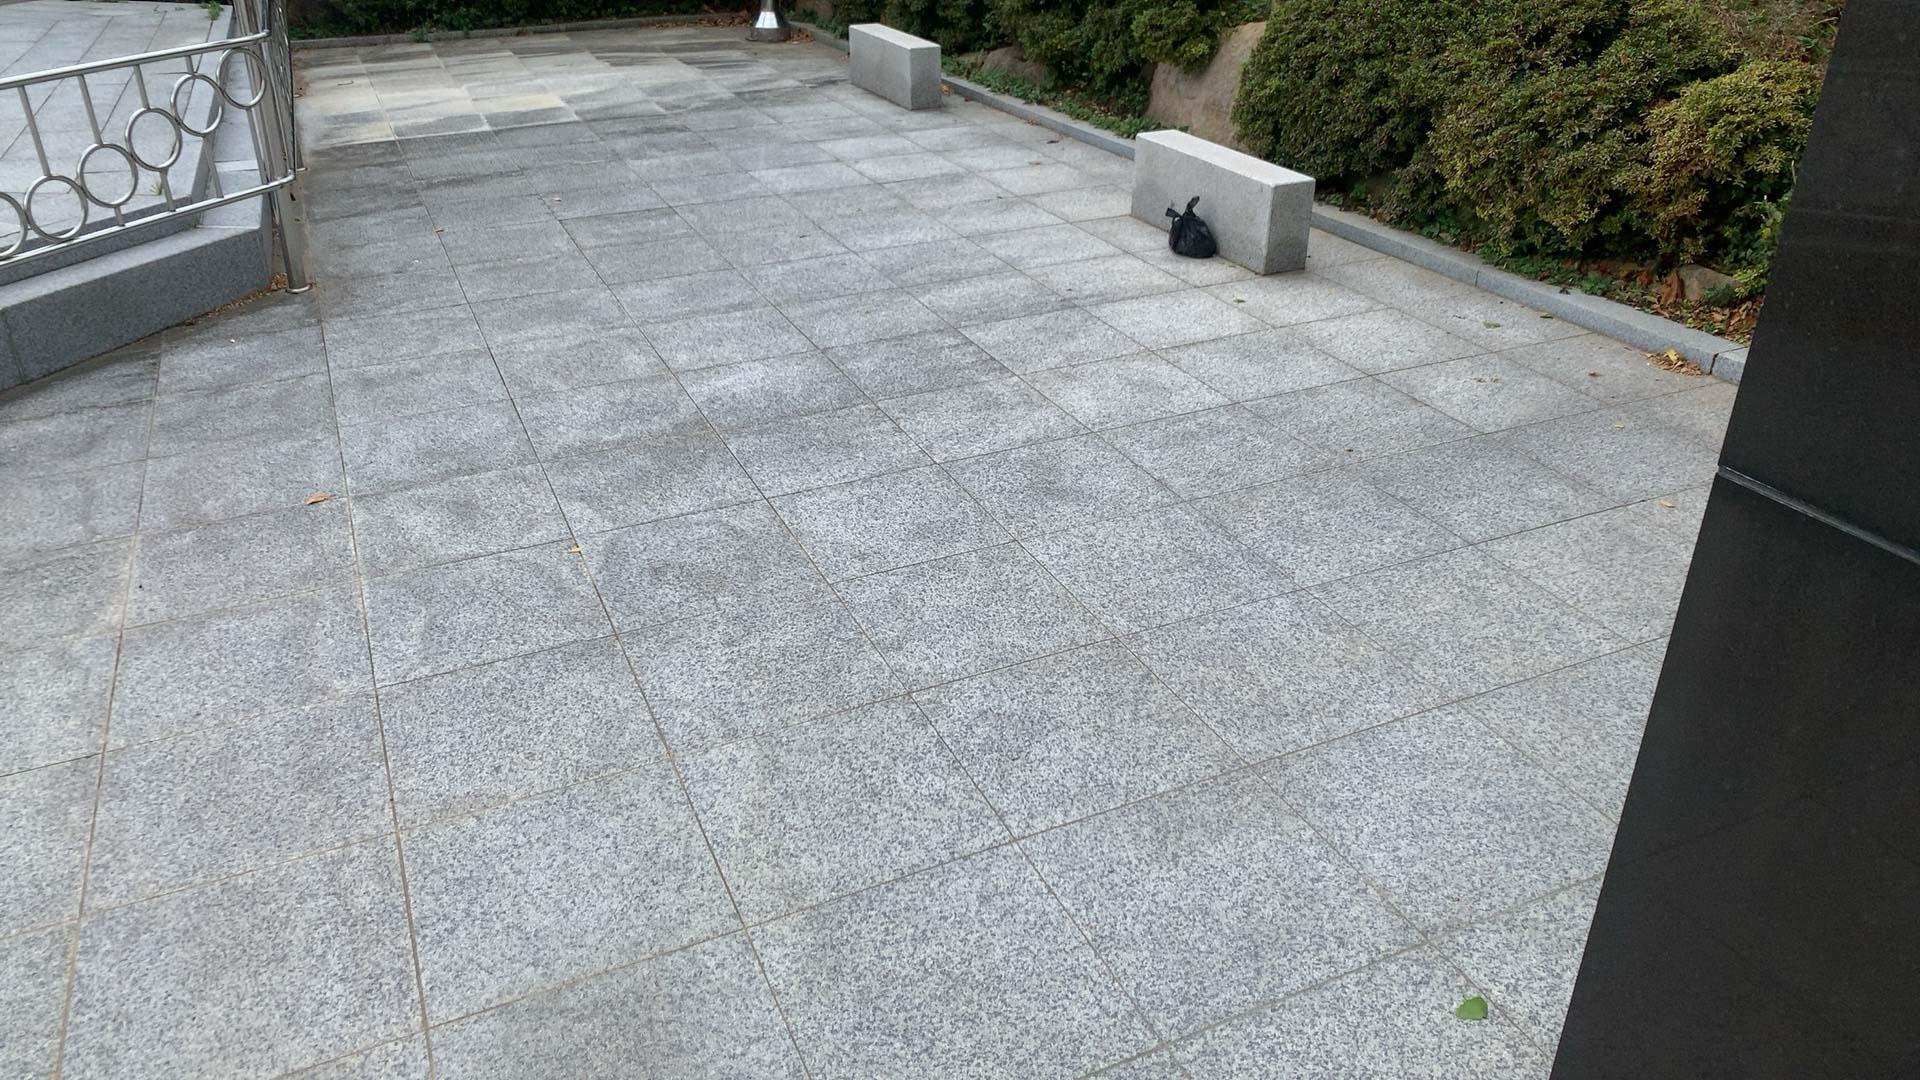black_bag: (1158, 193, 1222, 258)
